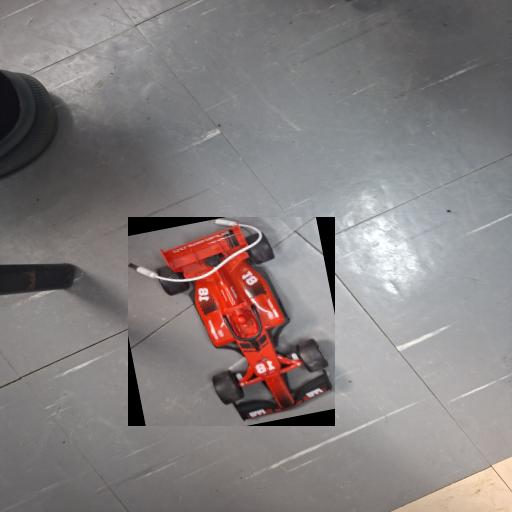carro: (128, 217, 335, 426)
